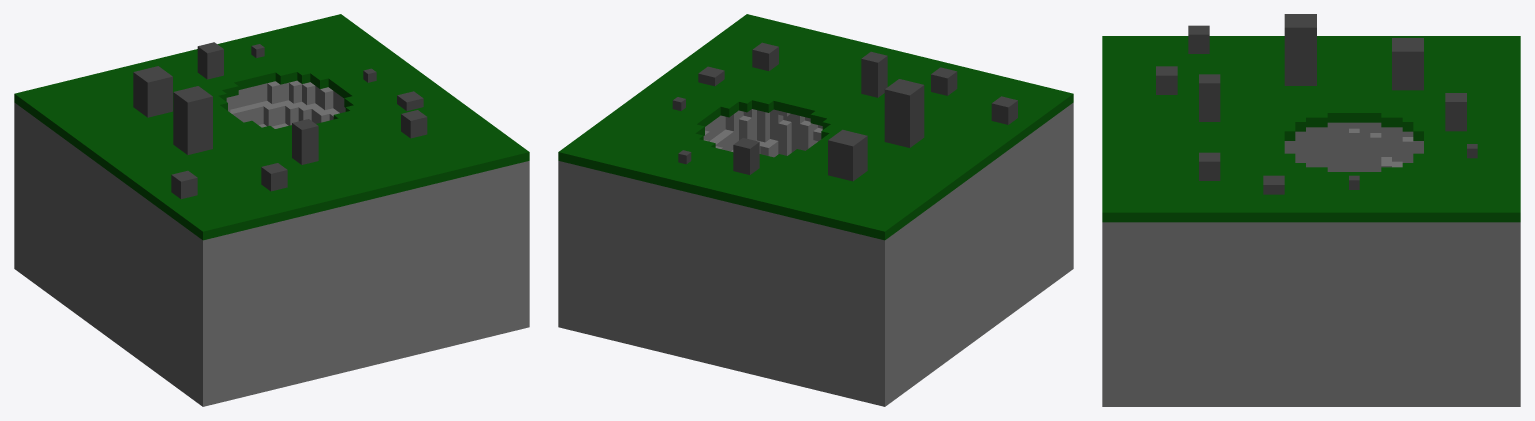
The model's file is Cavern.obj.
3 renders of one model, left to right at view 1: azimuth 30°, elevation 25°; view 2: azimuth 150°, elevation 25°; view 3: azimuth 270°, elevation 25°, orthographic. The views are drawn at different scales.
Bounding box in the file's own units: 3.9 × 2.6 × 3.9.
1 material, 1 textured.
